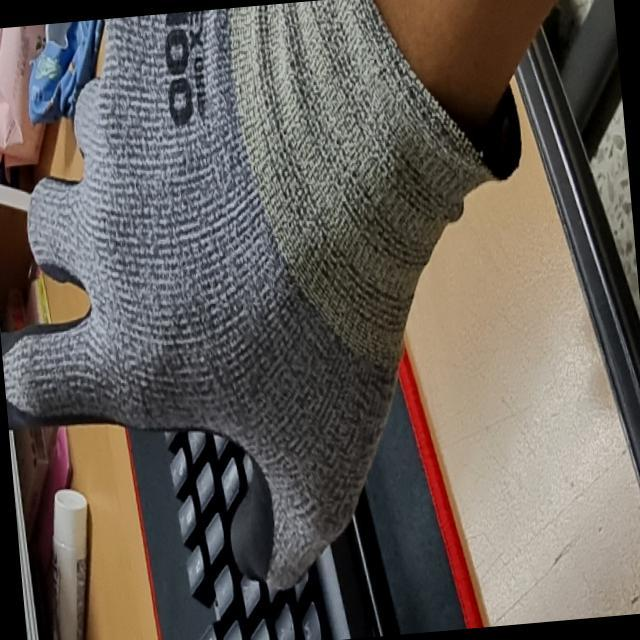Gloves: (0, 0, 501, 580)
